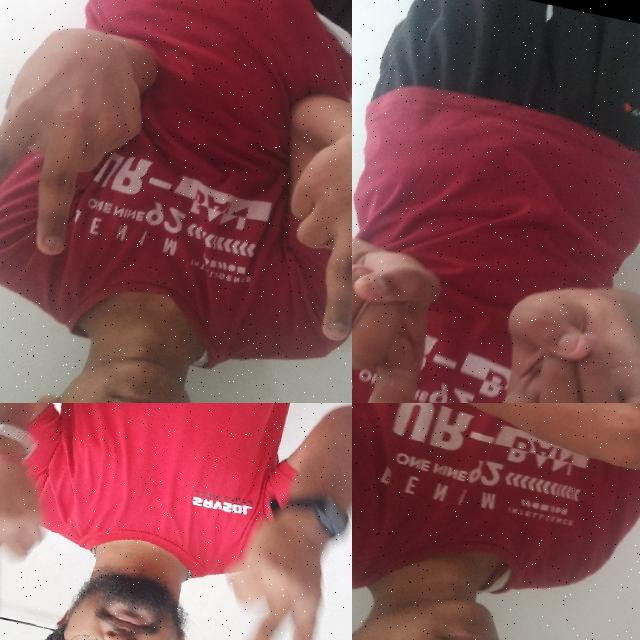Corna: (463, 253, 640, 403), (352, 199, 451, 403)
Five Fathers: (448, 403, 640, 541)
Reversed Victory: (0, 3, 161, 270), (180, 481, 352, 640), (250, 89, 352, 357), (0, 421, 72, 640)
